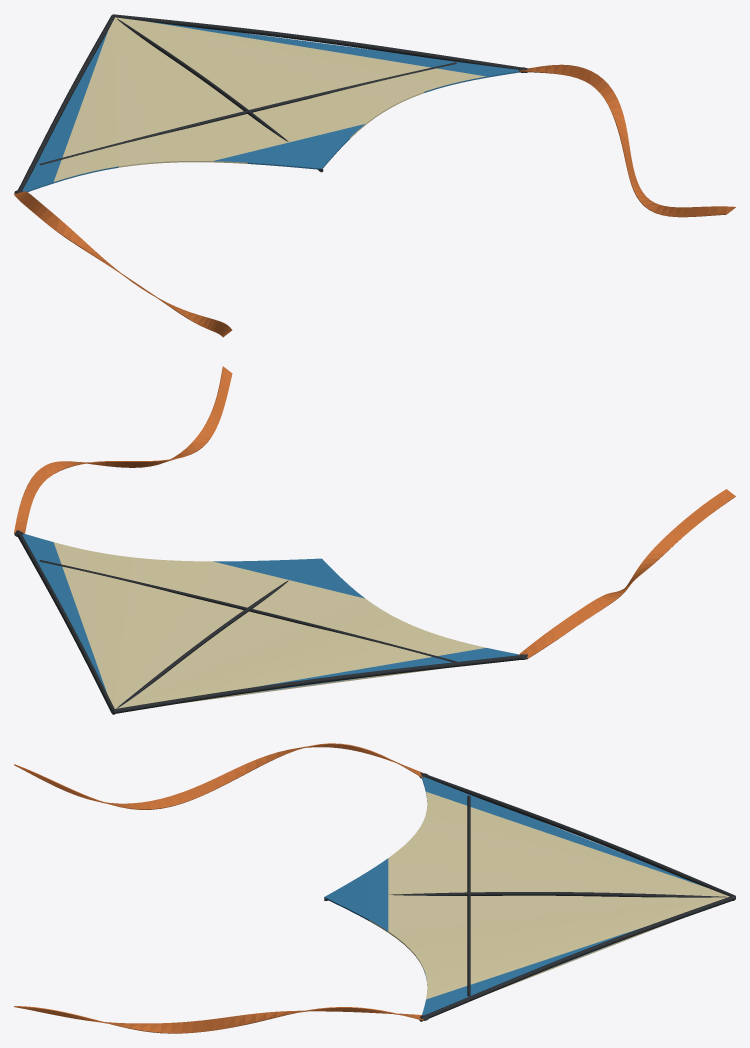
The model's file is A-NEW-20261026-DELTA-KITE-001_LOD0_R3.fbx.
3 renders of one model, top to bottom at view 1: azimuth 30°, elevation 25°; view 2: azimuth 150°, elevation 25°; view 3: azimuth 270°, elevation 25°, orthographic.
Visible parts, largest first — view 1: delta sail, cloth tip streamer.001, leading edge reinforcement.001, cloth tip streamer, transverse cross spar, leading edge reinforcement, central longitudinal spar; view 2: delta sail, cloth tip streamer, cloth tip streamer.001, leading edge reinforcement, transverse cross spar, leading edge reinforcement.001, central longitudinal spar; view 3: delta sail, cloth tip streamer, cloth tip streamer.001, leading edge reinforcement.001, leading edge reinforcement, central longitudinal spar, transverse cross spar.
Part boxes in pixels (<box>): delta sail: <box>22,17,519,192</box>; cloth tip streamer.001: <box>519,64,735,217</box>; leading edge reinforcement.001: <box>113,14,527,72</box>; cloth tip streamer: <box>14,191,232,337</box>; transverse cross spar: <box>39,62,456,165</box>; leading edge reinforcement: <box>16,14,114,193</box>; central longitudinal spar: <box>117,18,323,172</box>; delta sail: <box>22,534,518,708</box>; cloth tip streamer: <box>518,489,735,658</box>; cloth tip streamer.001: <box>14,366,232,533</box>; leading edge reinforcement: <box>113,654,527,713</box>; transverse cross spar: <box>39,560,456,662</box>; leading edge reinforcement.001: <box>16,530,114,713</box>; central longitudinal spar: <box>112,559,322,714</box>; delta sail: <box>324,777,729,1015</box>; cloth tip streamer: <box>14,743,423,809</box>; cloth tip streamer.001: <box>14,1006,423,1033</box>; leading edge reinforcement.001: <box>419,895,735,1021</box>; leading edge reinforcement: <box>420,772,735,896</box>; central longitudinal spar: <box>324,892,734,900</box>; transverse cross spar: <box>467,795,470,996</box>.
Size of the model in its own units: 132 by 10.35 by 150.
